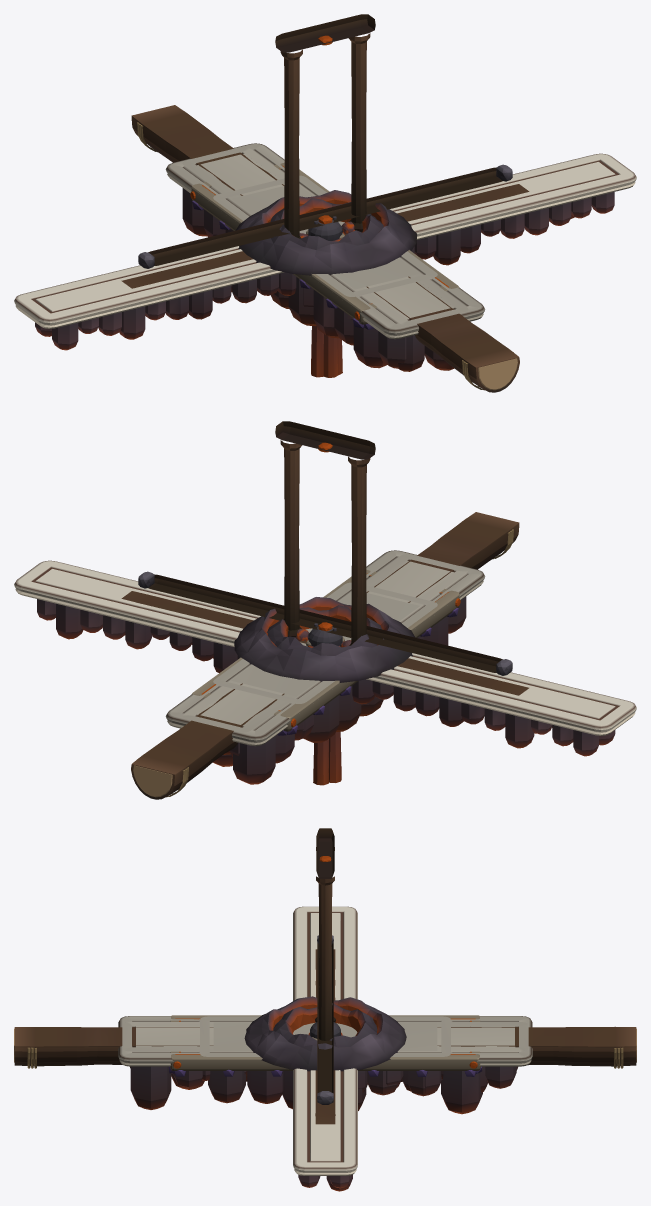
Rendered from volcano-1-cy59qTuO.glb.
3 views of the same model, one above another, from view 1: azimuth 30°, elevation 25°; view 2: azimuth 150°, elevation 25°; view 3: azimuth 270°, elevation 25° (orthographic). The views are drawn at different scales.
Visible parts, largest first — view 1: block_48x2x5#0, block_3.5x2x48_plank#0, pressFrame_3.5x6x2x7#0, block_8x2x32#0, block_6x2x32_grate#0, geyserVent_8#0, mount_14.4#0, block_8x2x20_ice#0, belt_8x1.5x24x0#0, beam_32x1x1.5#0, geyserVent_5.4#0, support_1_square#0 (+1 smaller); view 2: block_48x2x5#0, block_3.5x2x48_plank#0, pressFrame_3.5x6x2x7#0, block_8x2x32#0, geyserVent_8#0, block_6x2x32_grate#0, mount_14.4#0, block_8x2x20_ice#0, belt_8x1.5x24x0#0, beam_32x1x1.5#0, geyserVent_5.4#0, support_1_square#0 (+1 smaller); view 3: block_48x2x5#0, block_8x2x32#0, block_3.5x2x48_plank#0, geyserVent_8#0, block_6x2x32_grate#0, block_8x2x20_ice#0, belt_8x1.5x24x0#0, pressFrame_3.5x6x2x7#0, geyserVent_5.4#0, mount_14.4#0, beam_32x1x1.5#0, block_8x2x8#0.
Boxes of the visible parts, x1,y1,x2,y2 form: block_48x2x5#0: [14, 153, 636, 350]; block_3.5x2x48_plank#0: [131, 105, 519, 392]; pressFrame_3.5x6x2x7#0: [275, 14, 375, 238]; block_8x2x32#0: [165, 143, 485, 370]; block_6x2x32_grate#0: [182, 147, 468, 371]; geyserVent_8#0: [235, 190, 417, 275]; mount_14.4#0: [138, 164, 512, 268]; block_8x2x20_ice#0: [213, 175, 437, 338]; belt_8x1.5x24x0#0: [190, 162, 459, 328]; beam_32x1x1.5#0: [121, 184, 529, 288]; geyserVent_5.4#0: [270, 198, 383, 249]; support_1_square#0: [311, 326, 342, 377]; block_48x2x5#0: [14, 560, 636, 756]; block_3.5x2x48_plank#0: [131, 512, 519, 799]; pressFrame_3.5x6x2x7#0: [275, 421, 375, 645]; block_8x2x32#0: [165, 550, 485, 784]; geyserVent_8#0: [234, 597, 415, 682]; block_6x2x32_grate#0: [182, 554, 468, 756]; mount_14.4#0: [138, 571, 512, 675]; block_8x2x20_ice#0: [213, 582, 437, 742]; belt_8x1.5x24x0#0: [191, 569, 460, 734]; beam_32x1x1.5#0: [121, 591, 528, 695]; geyserVent_5.4#0: [267, 605, 382, 655]; support_1_square#0: [313, 732, 341, 785]; block_48x2x5#0: [293, 906, 357, 1191]; block_8x2x32#0: [118, 1016, 532, 1114]; block_3.5x2x48_plank#0: [14, 1026, 636, 1068]; geyserVent_8#0: [244, 996, 406, 1071]; block_6x2x32_grate#0: [118, 1021, 532, 1092]; block_8x2x20_ice#0: [198, 1016, 452, 1110]; belt_8x1.5x24x0#0: [170, 1015, 480, 1076]; pressFrame_3.5x6x2x7#0: [315, 828, 335, 1040]; geyserVent_5.4#0: [273, 1003, 377, 1047]; mount_14.4#0: [317, 935, 333, 1104]; beam_32x1x1.5#0: [315, 949, 335, 1124]; block_8x2x8#0: [282, 1071, 367, 1109].
Bounding box in the file's own units: 48 × 26.5 × 48.12.
